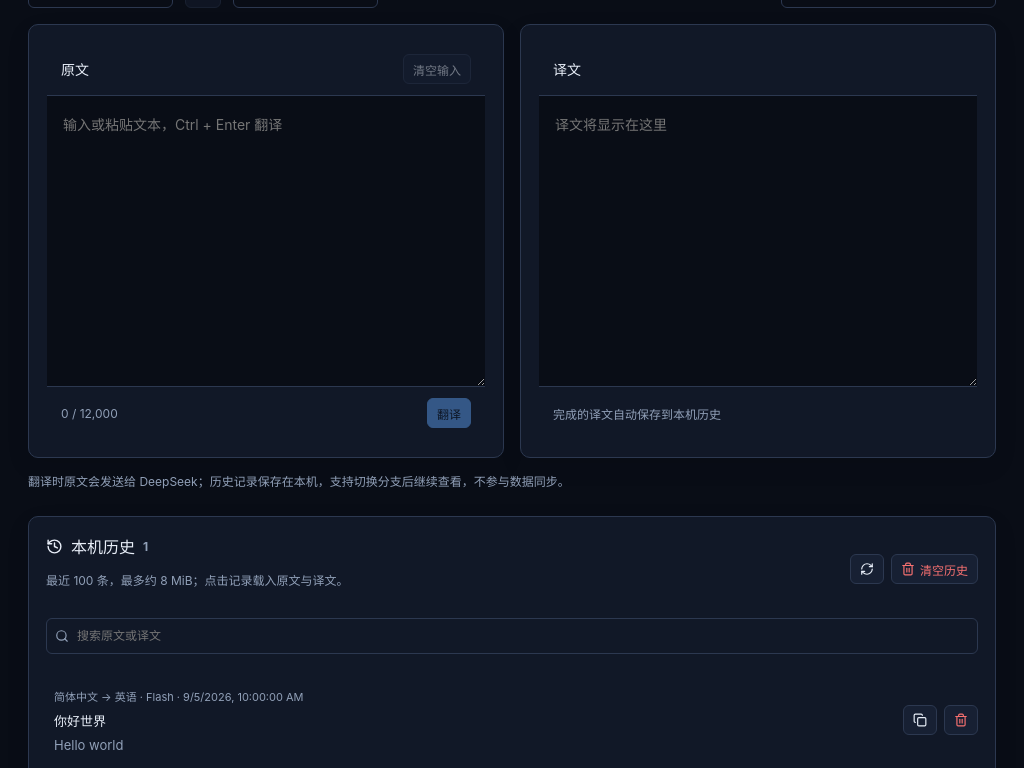
Test: translation page › requires confirmation before clearing history, and refreshes after deletion
(page scrolled)
Expected: the button "简体中文 → 英语 · Flash · 9/5/2026, 10:00:00 AM 你好世界 Hello world" is shown, [46,680,887,761]
Step 1. Click the button "清空历史" → (934, 569), box [891,554,978,584]
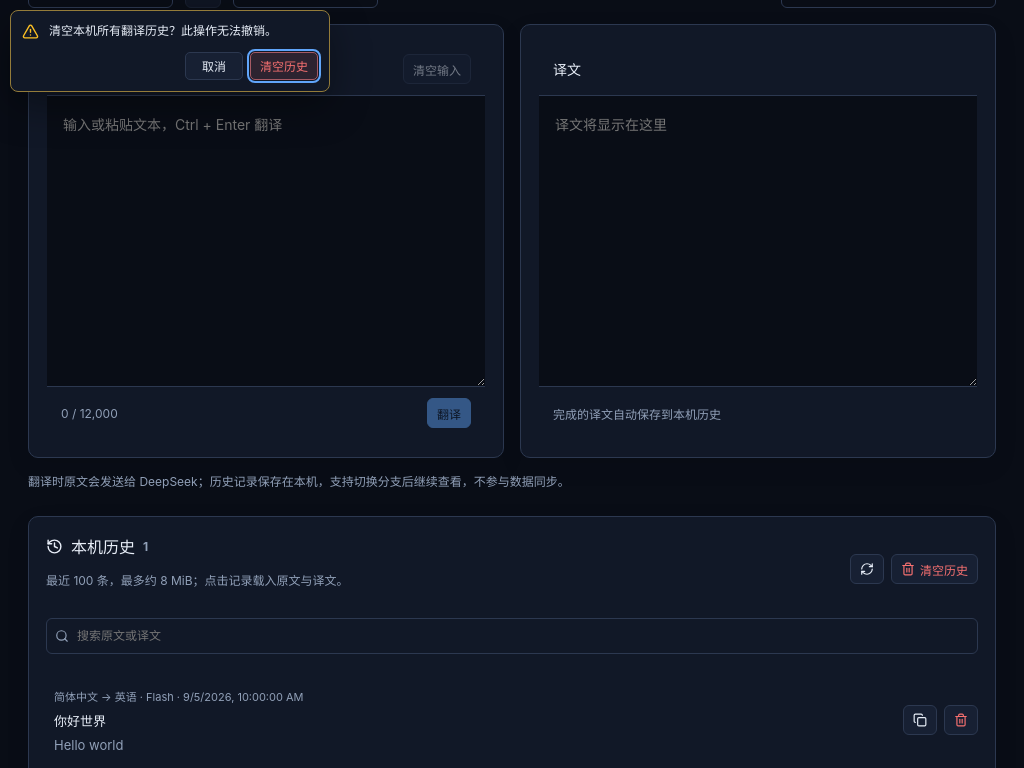
Step 2. Click the button "取消" → (214, 66), box [185,52,243,80]
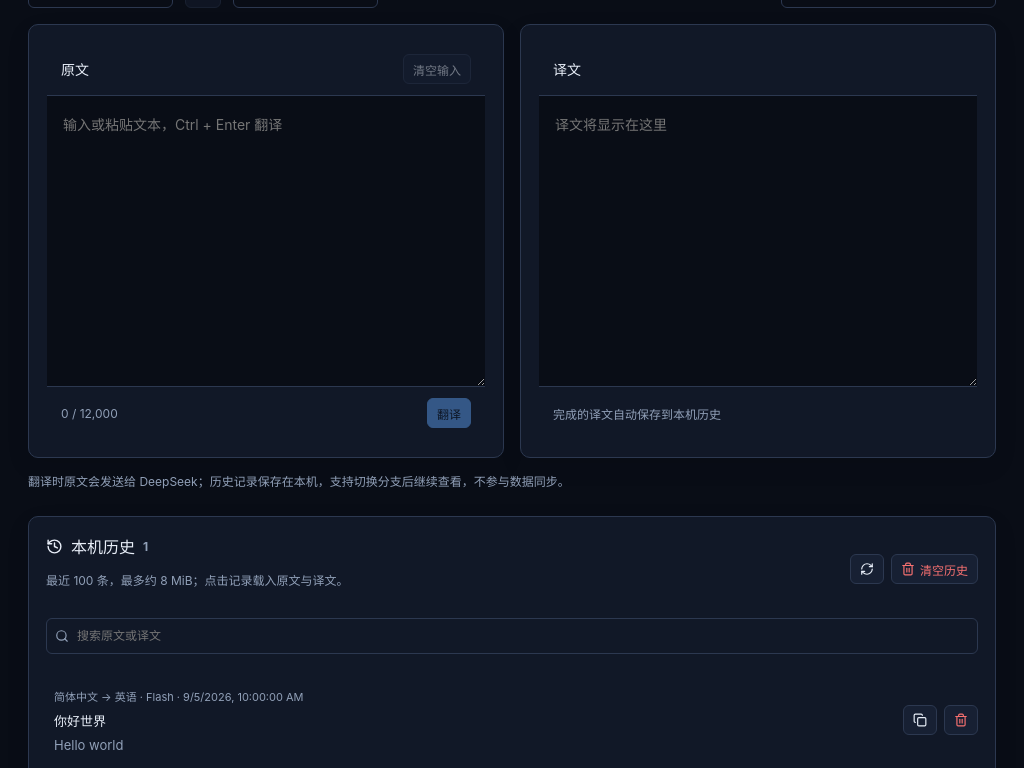
Step 3. Click the button "清空历史" → (934, 569), box [891,554,978,584]
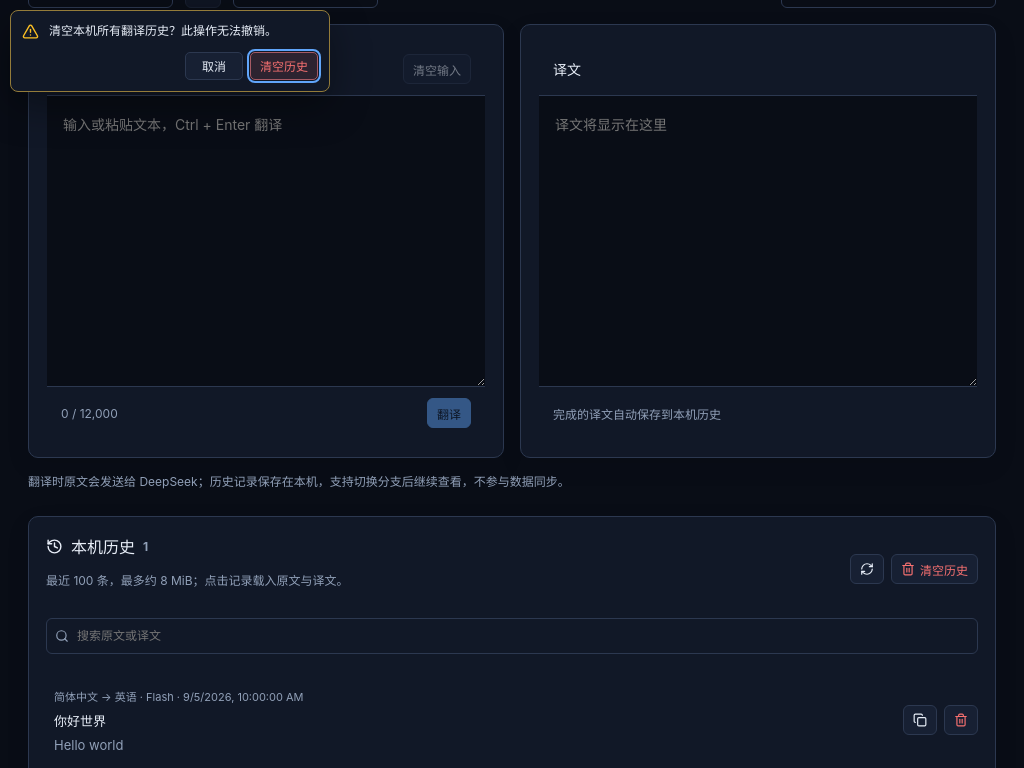
Step 4. Click the button "清空历史" below "清空本机所有翻译历史？此操作无法撤销。" → (284, 66), box [250,52,318,80]
(page scrolled)
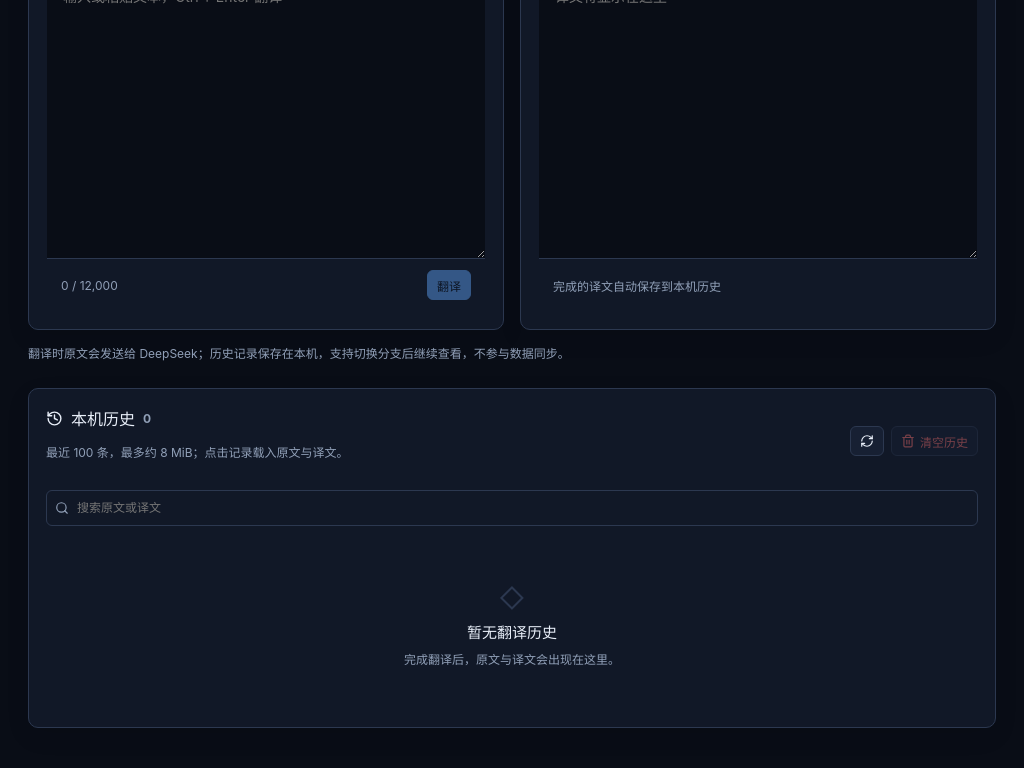
Now the heading "暂无翻译历史" is shown, box [467,621,557,642]
